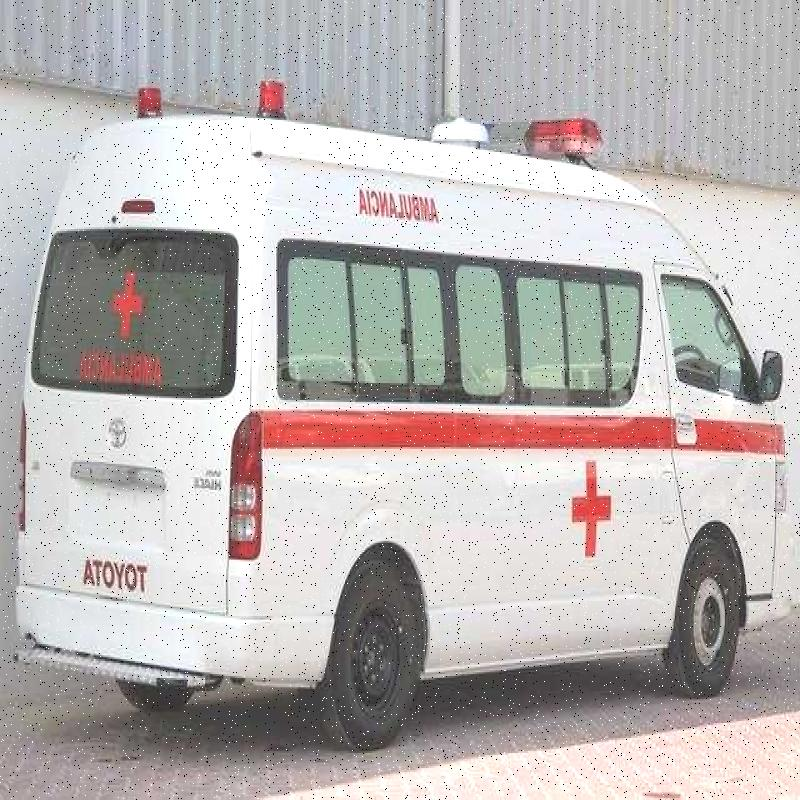AmbulanceSiren: (449, 99, 610, 164), (240, 70, 290, 146), (132, 72, 164, 136)
